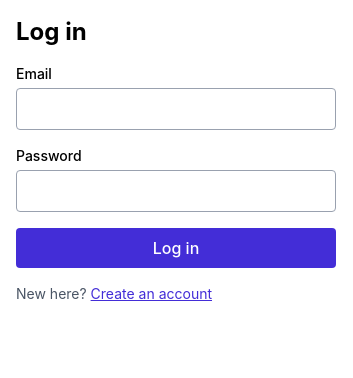
Scenario: LoginView › maps invalid_credentials to a message
Type "a@b.co" into the field with id "email" at (176, 109), box left=16, top=88, right=336, bottom=130
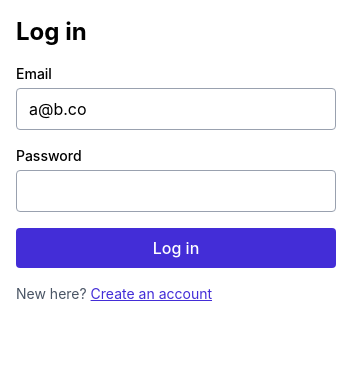
Type "secretpassword" into the password field labelled "Password" at (176, 191), box left=16, top=170, right=336, bottom=212
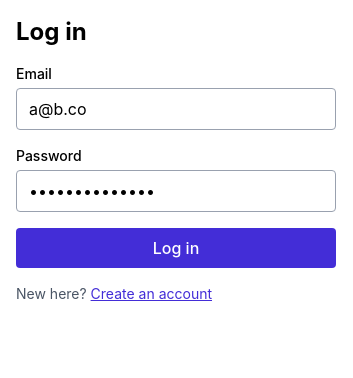
Submit the form
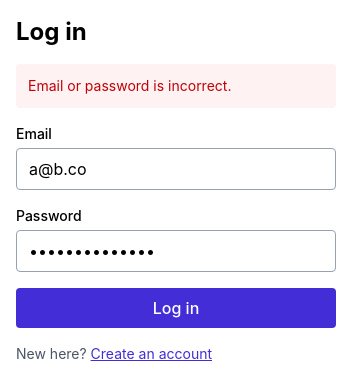
Now the message "Email or password is incorrect." is shown, box left=16, top=64, right=336, bottom=108
